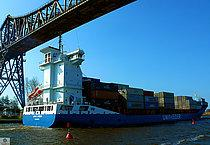Ship: (21, 30, 210, 133)
